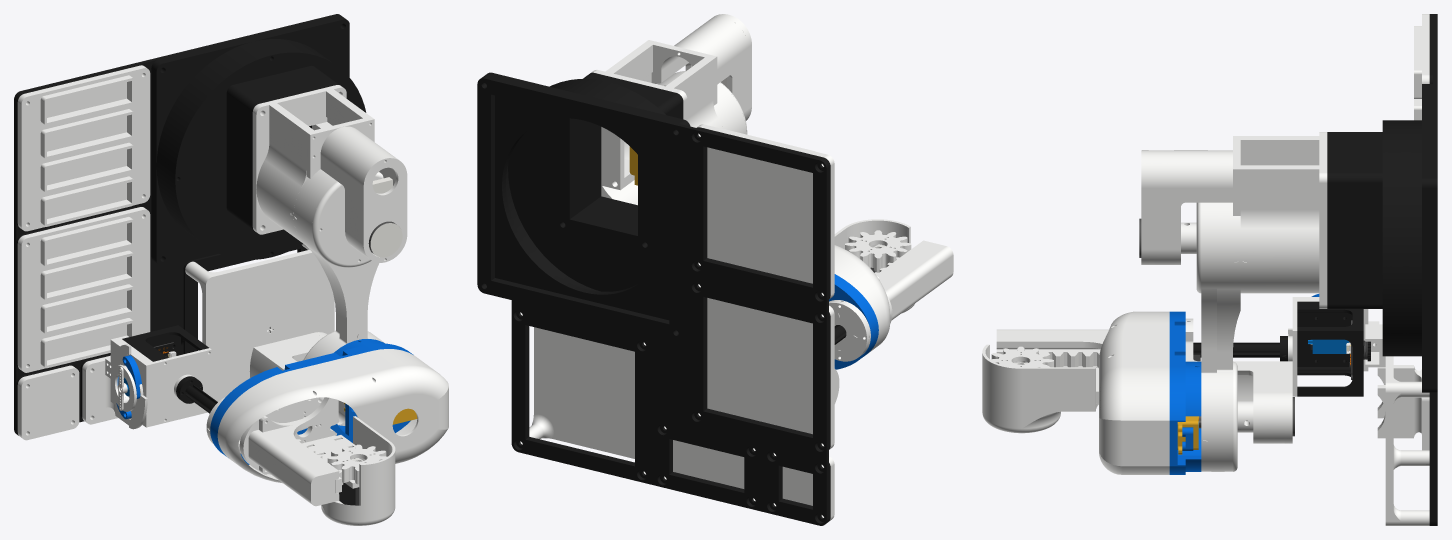
Rendered from scara_servo_B v3.fbx.
3 renders of one model, left to right at view 1: azimuth 30°, elevation 25°; view 2: azimuth 150°, elevation 25°; view 3: azimuth 270°, elevation 25°, orthographic. The views are drawn at different scales.
Visible parts, largest first — view 1: Body1 (×27), Body2 (×2), Body43; view 2: Body1 (×16), Body2, Body43; view 3: Body1 (×23), Body2.
Boxes of the visible parts, x1,y1,x2,y2 form: Body1 (×27): (14,14,448,525); Body2 (×2): (153,16,359,488); Body43: (17,365,79,440); Body1 (×16): (477,14,953,525); Body2: (485,72,690,320); Body43: (773,453,834,521); Body1 (×23): (982,14,1437,525); Body2: (1390,84,1429,392).
Bounding box in the file's own units: 255 × 255 × 289.
